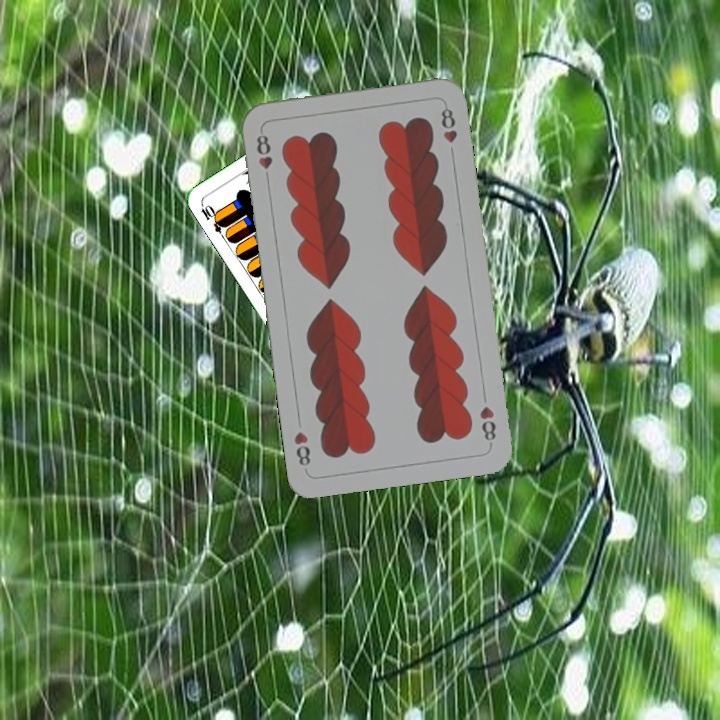E10: (197, 200, 228, 236)
H8: (252, 131, 275, 185), (475, 402, 498, 448)
